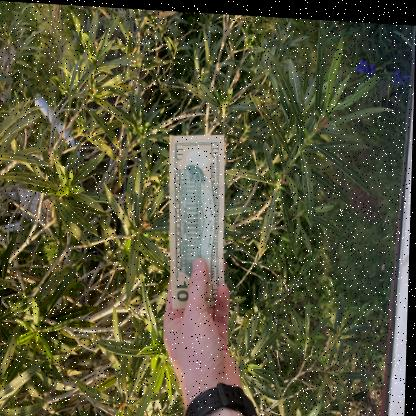ten-back: (170, 131, 227, 306)
